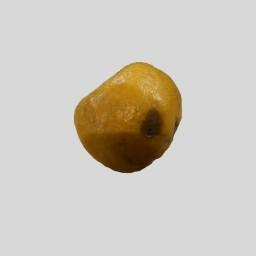Unripe: (76, 62, 180, 171)
